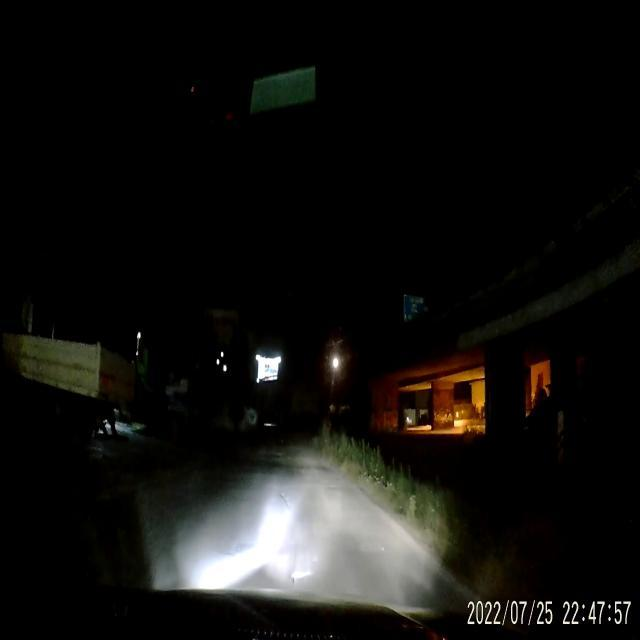Pothole: (282, 567, 316, 586), (279, 490, 291, 516)
